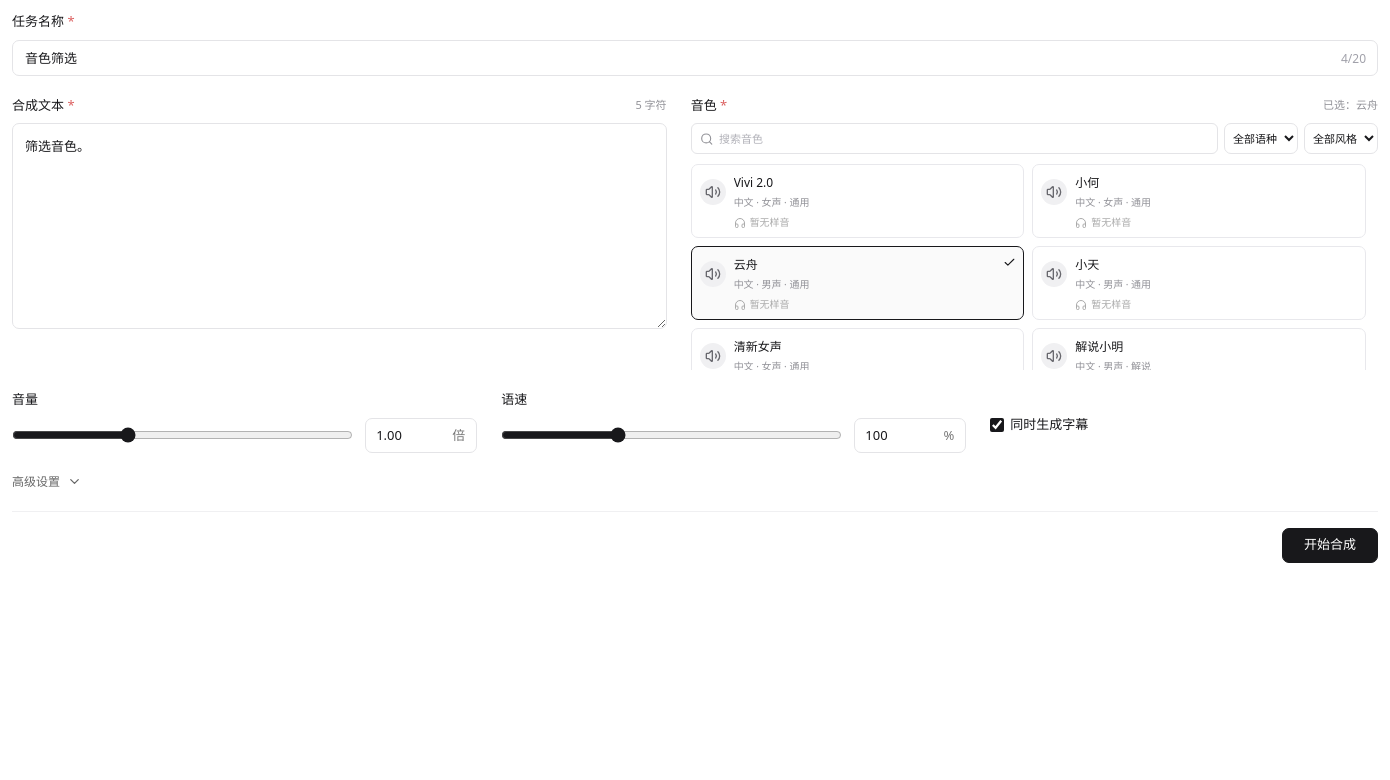
Scenario: speech configuration validation recovery › clears empty-result voice filters without changing the selected voice
The width and height of the screenshot is (1390, 780).
Step 1. Type "无此音色" into the field named "搜索音色" → {"x": 964, "y": 138}, box x1=719 y1=124 x2=1209 y2=153
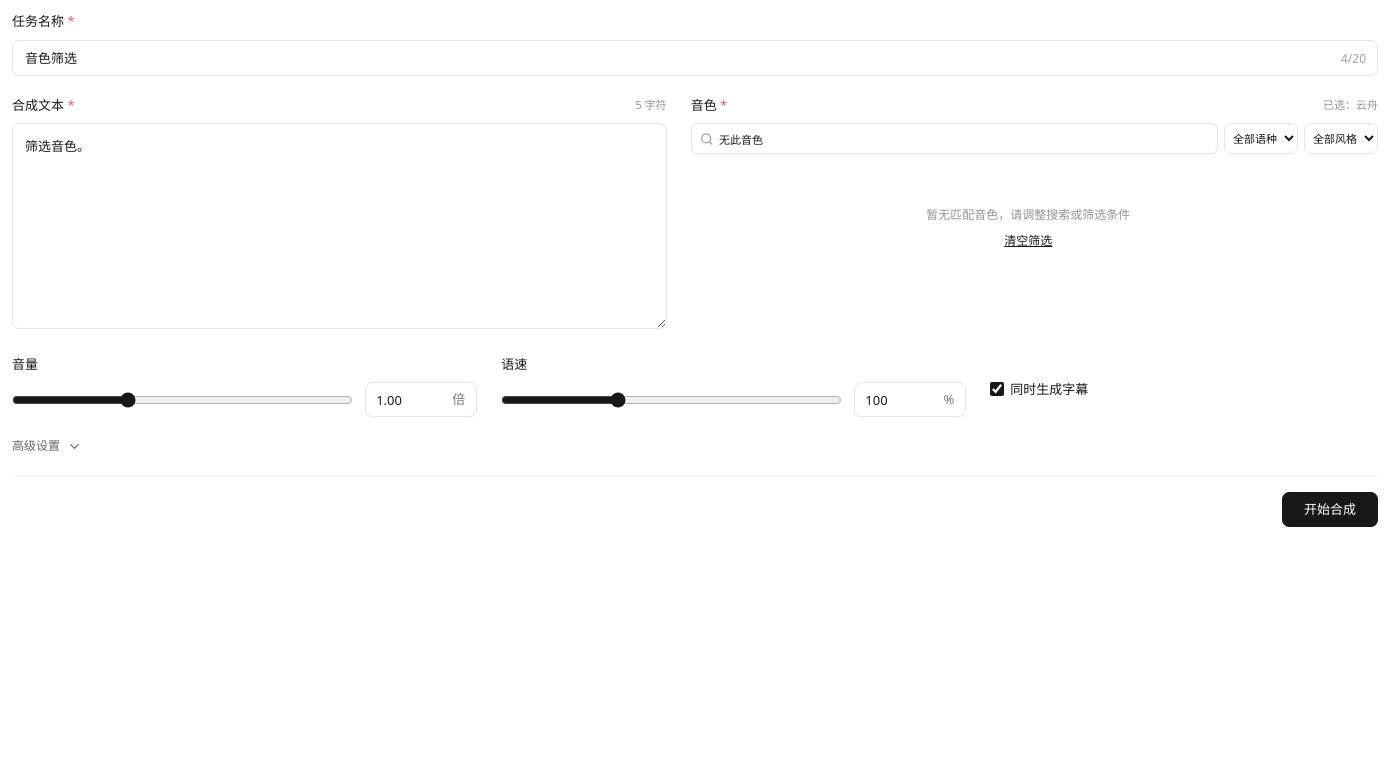
Step 2. Select "中文" in the dropdown named "音色语种" → {"x": 1261, "y": 138}, box x1=1224 y1=123 x2=1298 y2=154
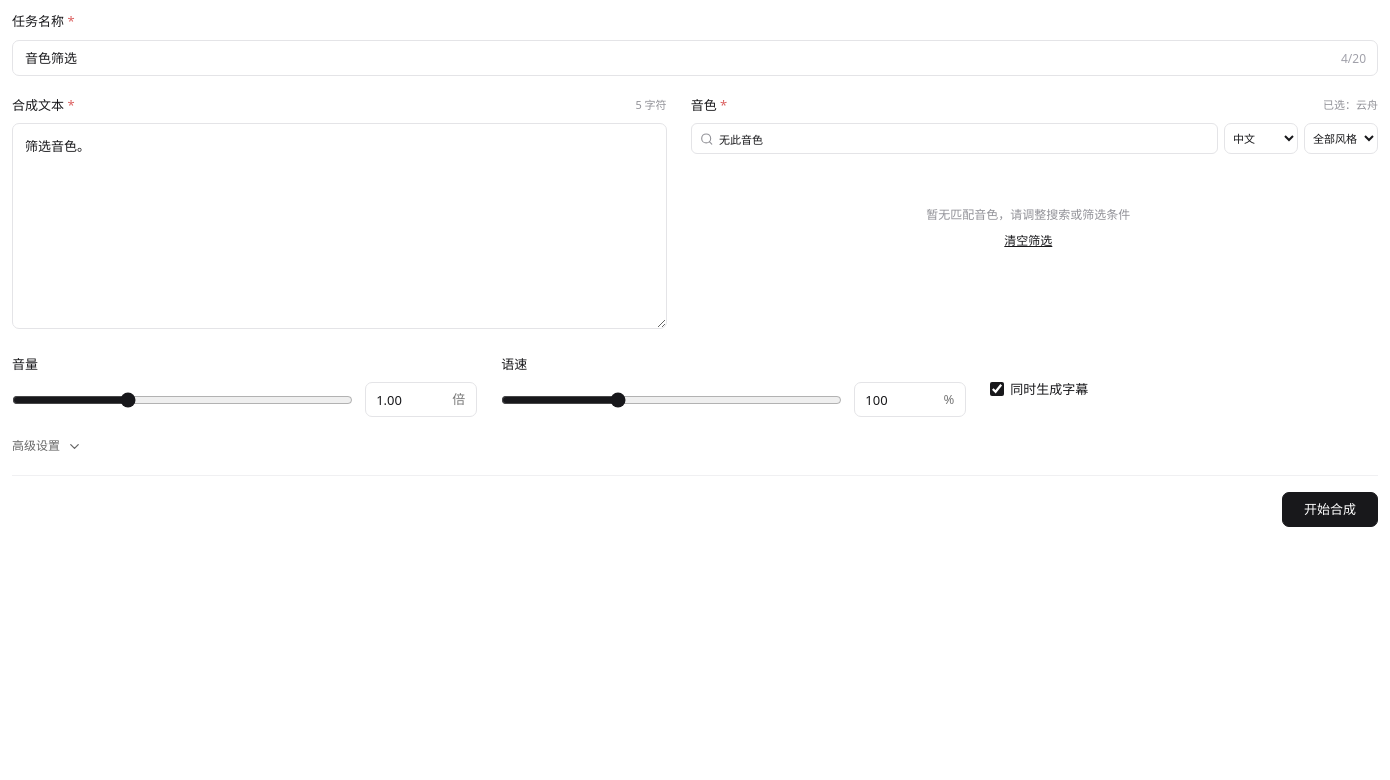
Step 3. Select "解说" in the dropdown named "音色风格" → {"x": 1341, "y": 138}, box x1=1304 y1=123 x2=1378 y2=154
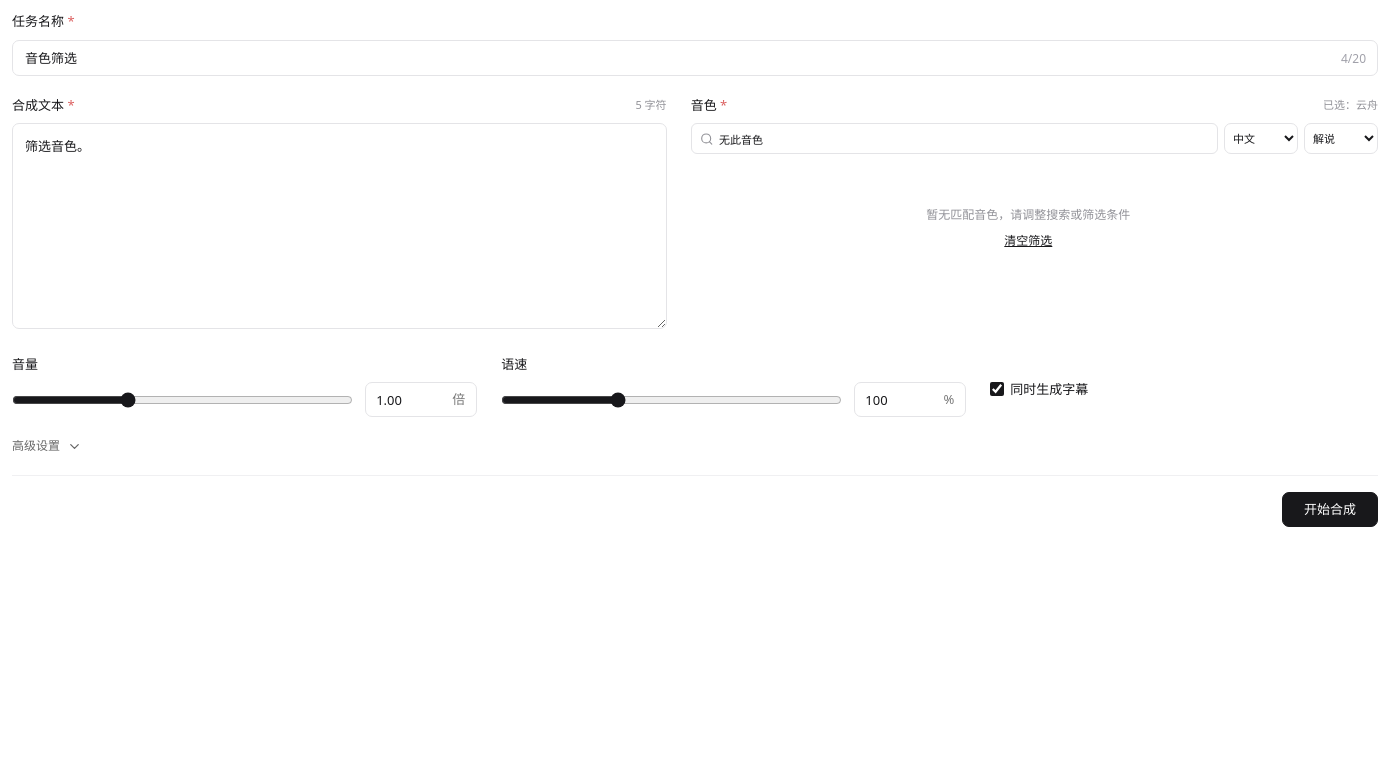
Step 4. Click the button with aria-label "清空音色筛选" → {"x": 1028, "y": 241}, box x1=1004 y1=232 x2=1052 y2=250
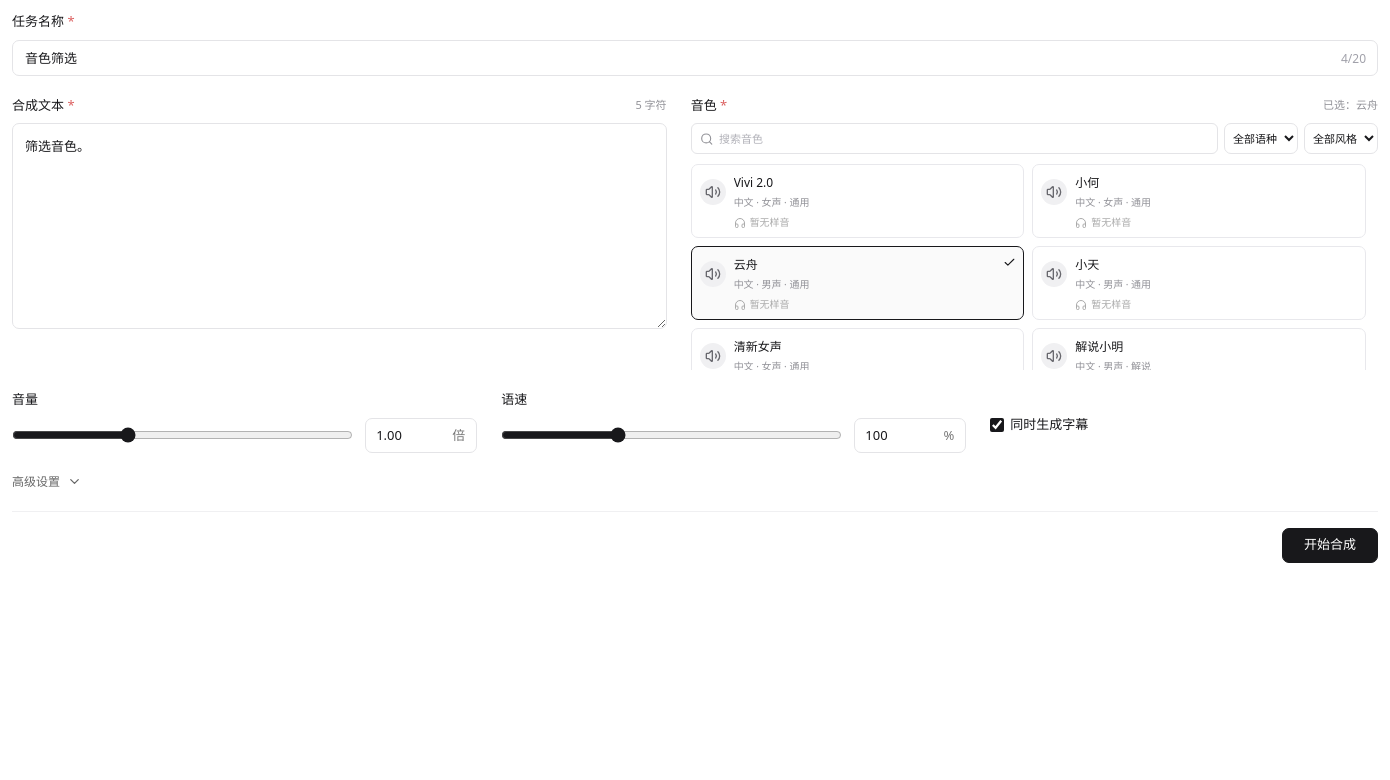
Expected: the field named "搜索音色" is empty, x1=719 y1=124 x2=1209 y2=153
Expected: the number of buttons with test id "speech-voice" is 6
Expected: the button with test id "speech-voice" shows "云舟", x1=692 y1=247 x2=1023 y2=319
